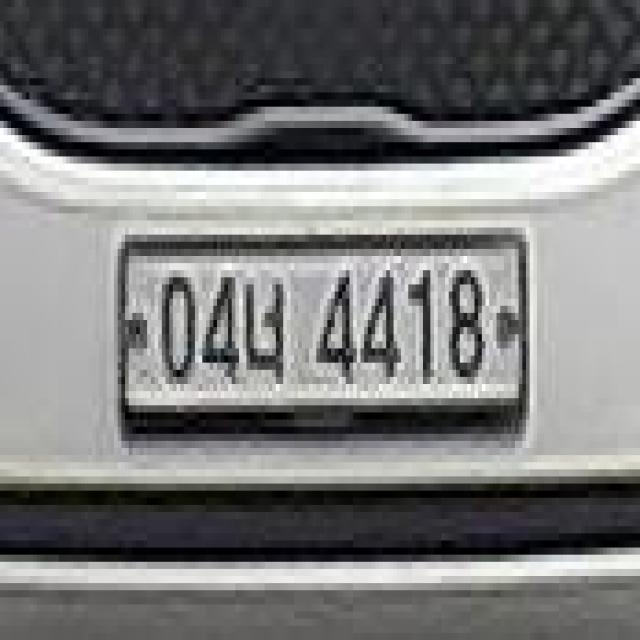illegal_plate: (108, 225, 541, 448)
